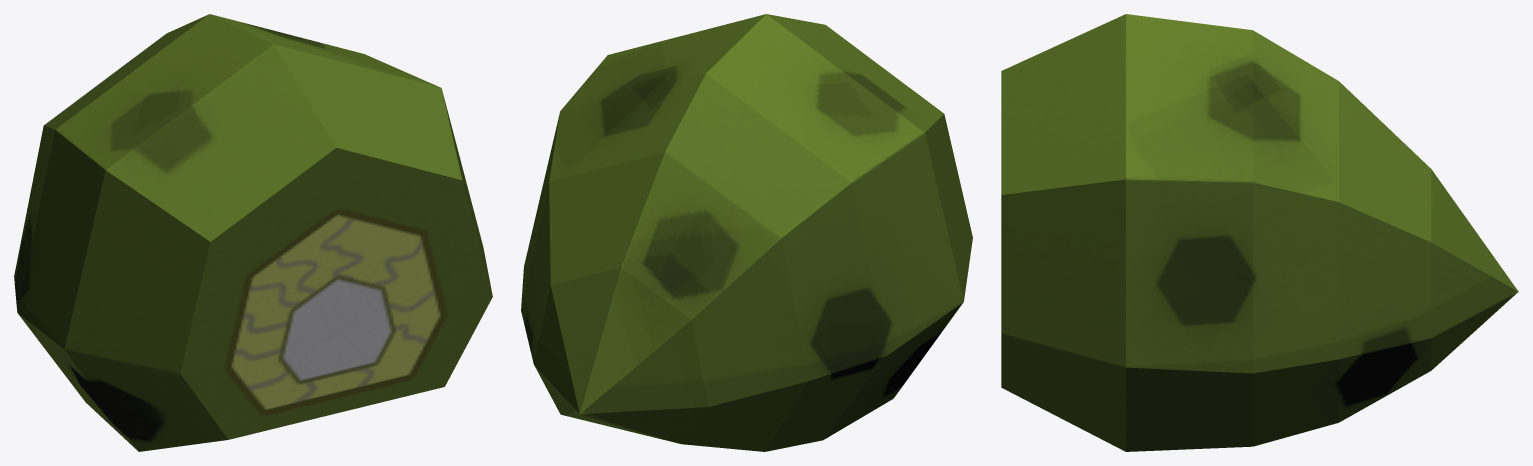
Rendered from SerpentBasic_Queue.FBX.
The picture shows the model from 3 angles, left to right: view 1: azimuth 30°, elevation 25°; view 2: azimuth 150°, elevation 25°; view 3: azimuth 270°, elevation 25°; orthographic projection. The views are drawn at different scales.
Visible parts, largest first — view 1: SerpentBasic_Queue; view 2: SerpentBasic_Queue; view 3: SerpentBasic_Queue.
Part boxes in pixels (left/top/right/bottom): SerpentBasic_Queue: left=14, top=14, right=492, bottom=451; SerpentBasic_Queue: left=521, top=14, right=972, bottom=451; SerpentBasic_Queue: left=1001, top=14, right=1518, bottom=451.
Size of the model in its own units: 0.8694 by 0.743 by 0.9358.
